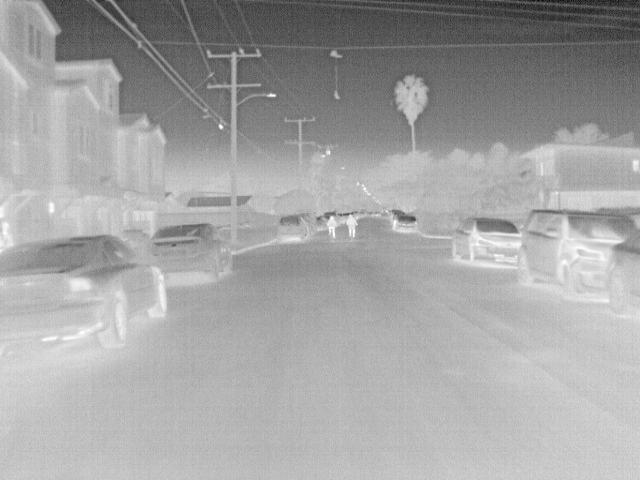car: (2, 233, 170, 358), (524, 208, 637, 296), (148, 222, 232, 285), (454, 215, 522, 265), (608, 233, 638, 316), (275, 214, 311, 244), (391, 214, 417, 233), (299, 212, 317, 234)
person: (1, 218, 17, 250), (324, 212, 339, 239), (345, 215, 359, 239)
